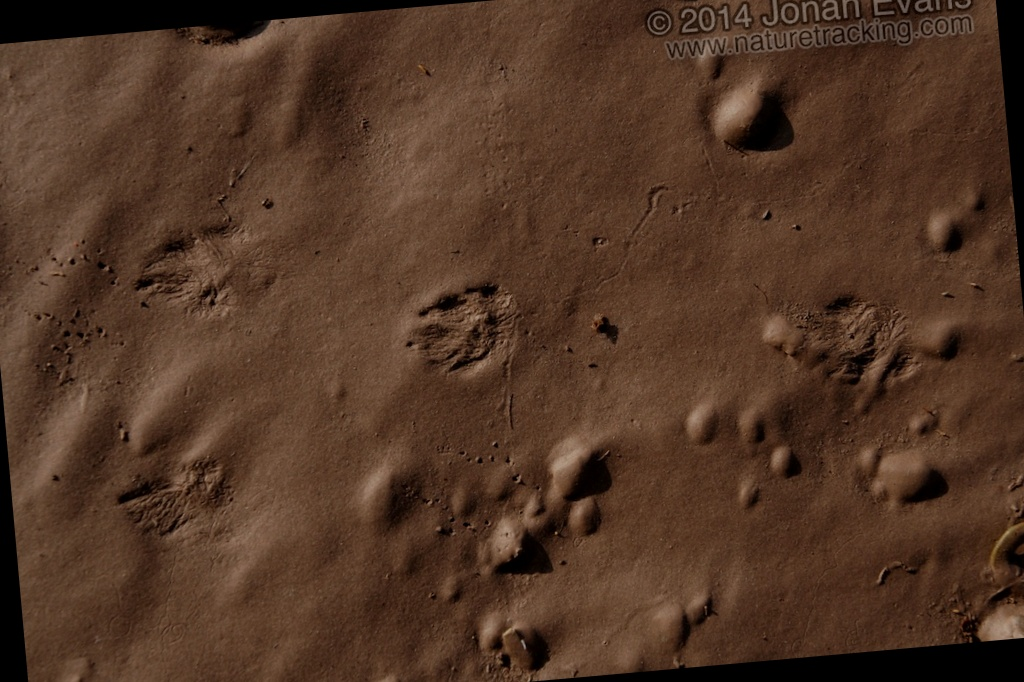rabbit: (370, 267, 553, 393)
